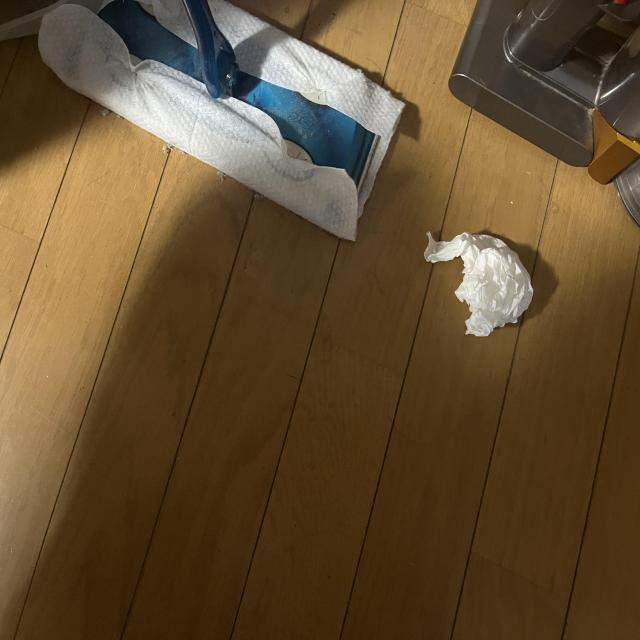Paper: (416, 218, 548, 340)
